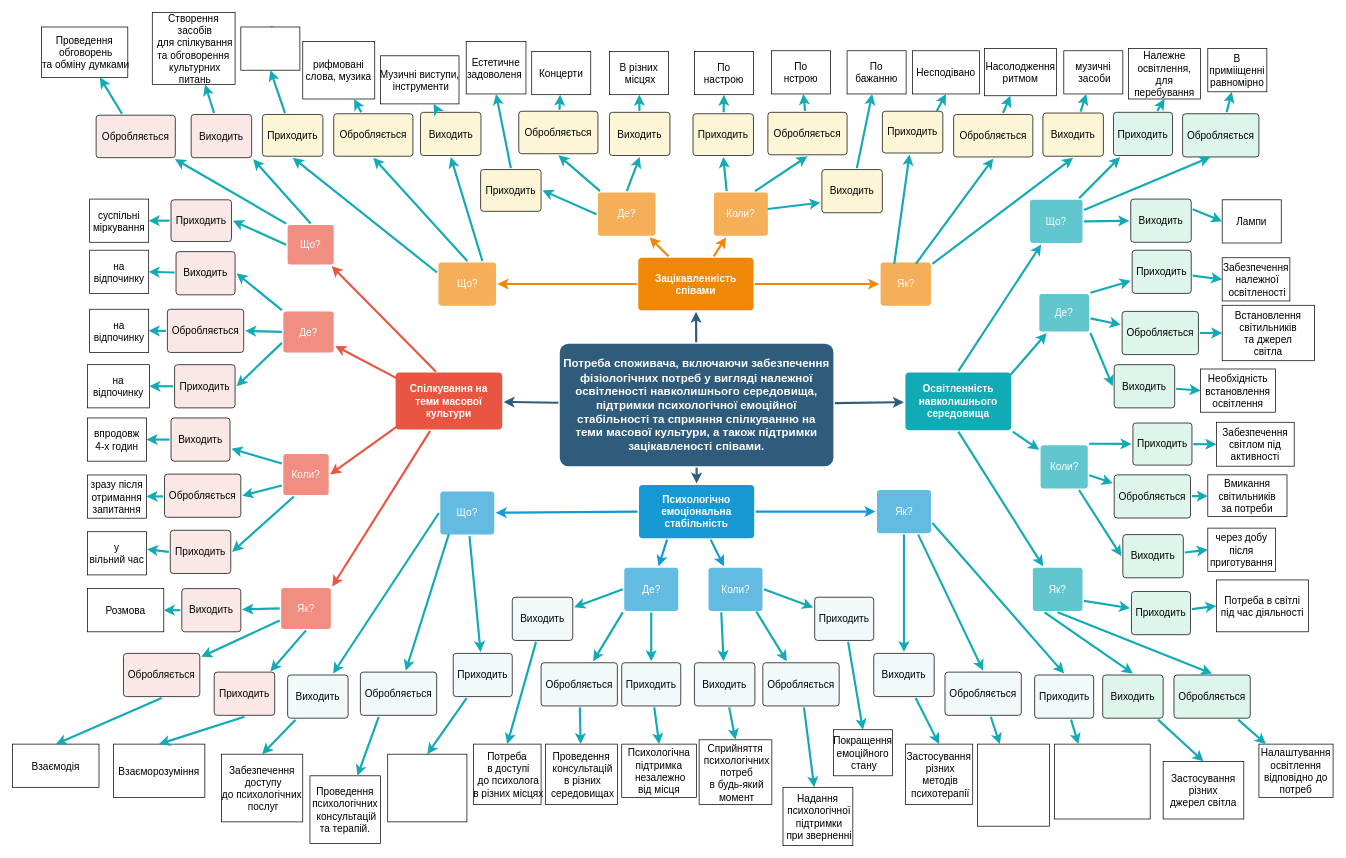
Image size: 1346x858. Some labels were removed from this diagram. The centre of each missing label's shape, as x and y in pixels:
Використання психологічних методів у роботі зі споживачем.: the point at 1013,784
Покращення психологічного стану споживача: the point at 427,787
Покращення психологічного стану та зниження стресу: the point at 1102,781
слова: the point at 270,48
